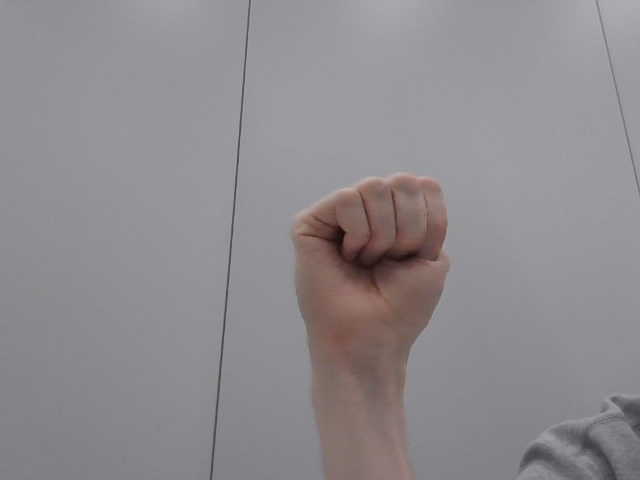down: (260, 161, 493, 373)
